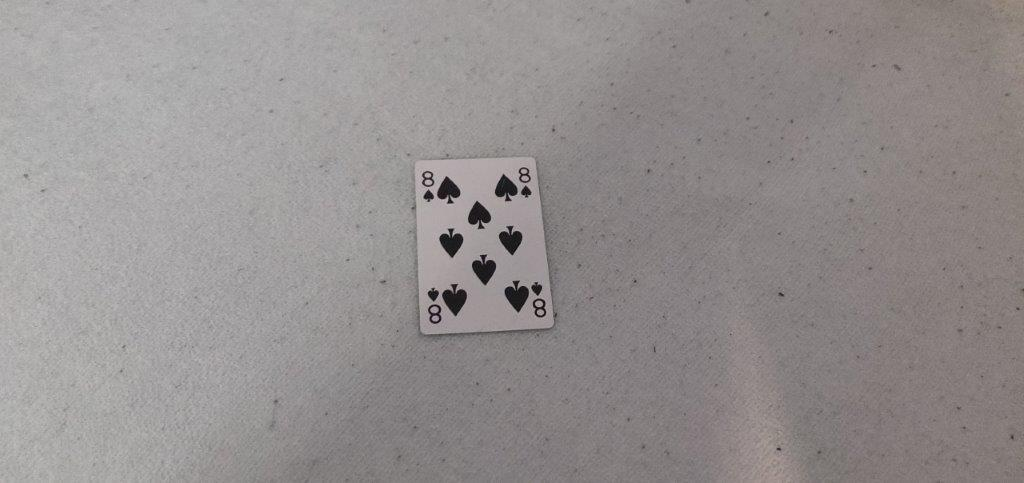8S: (515, 164, 534, 202), (420, 168, 438, 207)
